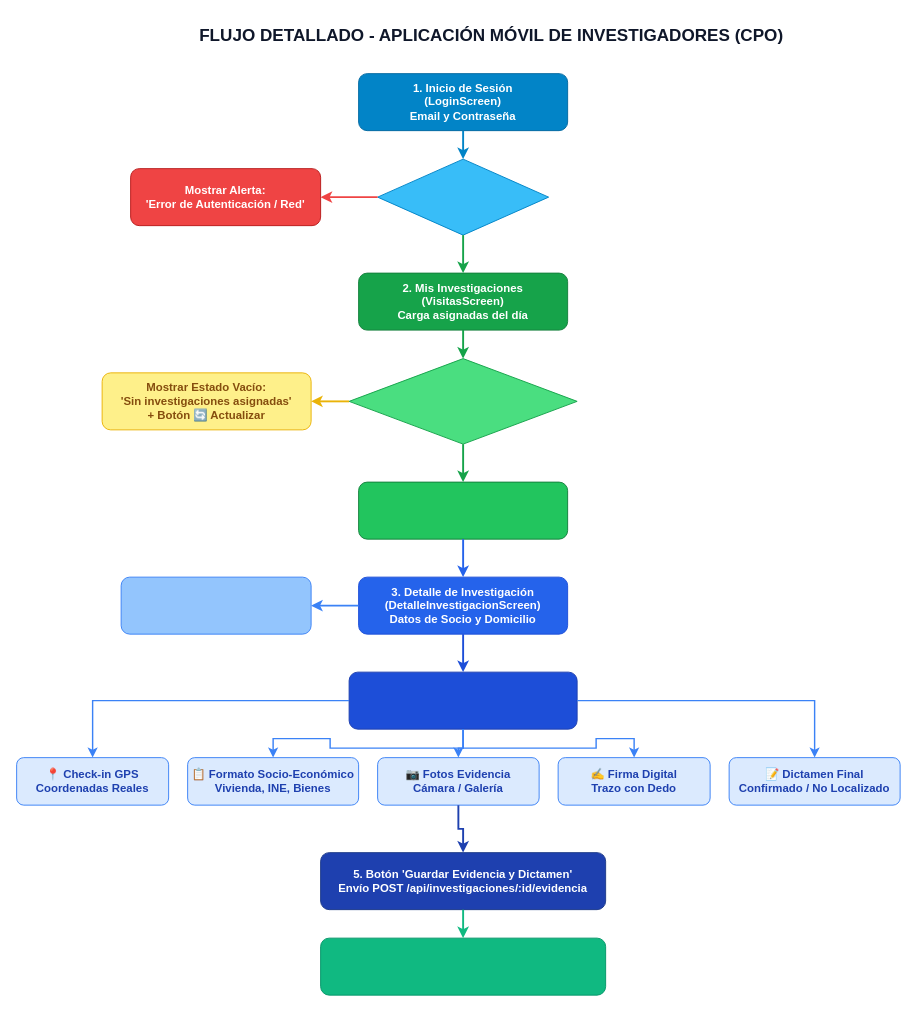
This 917x1012 diagram has some shape labels left out. Each missing label, with the centre of its shape:
"4. Captura de Formato y Evidencias (CapturaFormatoScreen)" belongs at (462,700).
"Seleccionar Caso de la Lista (Solicitante o Aval)" belongs at (463,510).
"¿Credenciales Válidas?" belongs at (463,196).
"¿Tiene Investigaciones Asignadas?" belongs at (462,401).
"✅ Éxito: Registro completado en DB Regreso a Lista de Visitas (VisitasScreen)" belongs at (463,966).
"🗺️ Abrir Navegación GPS (Google Maps / Waze)" belongs at (215,605).
